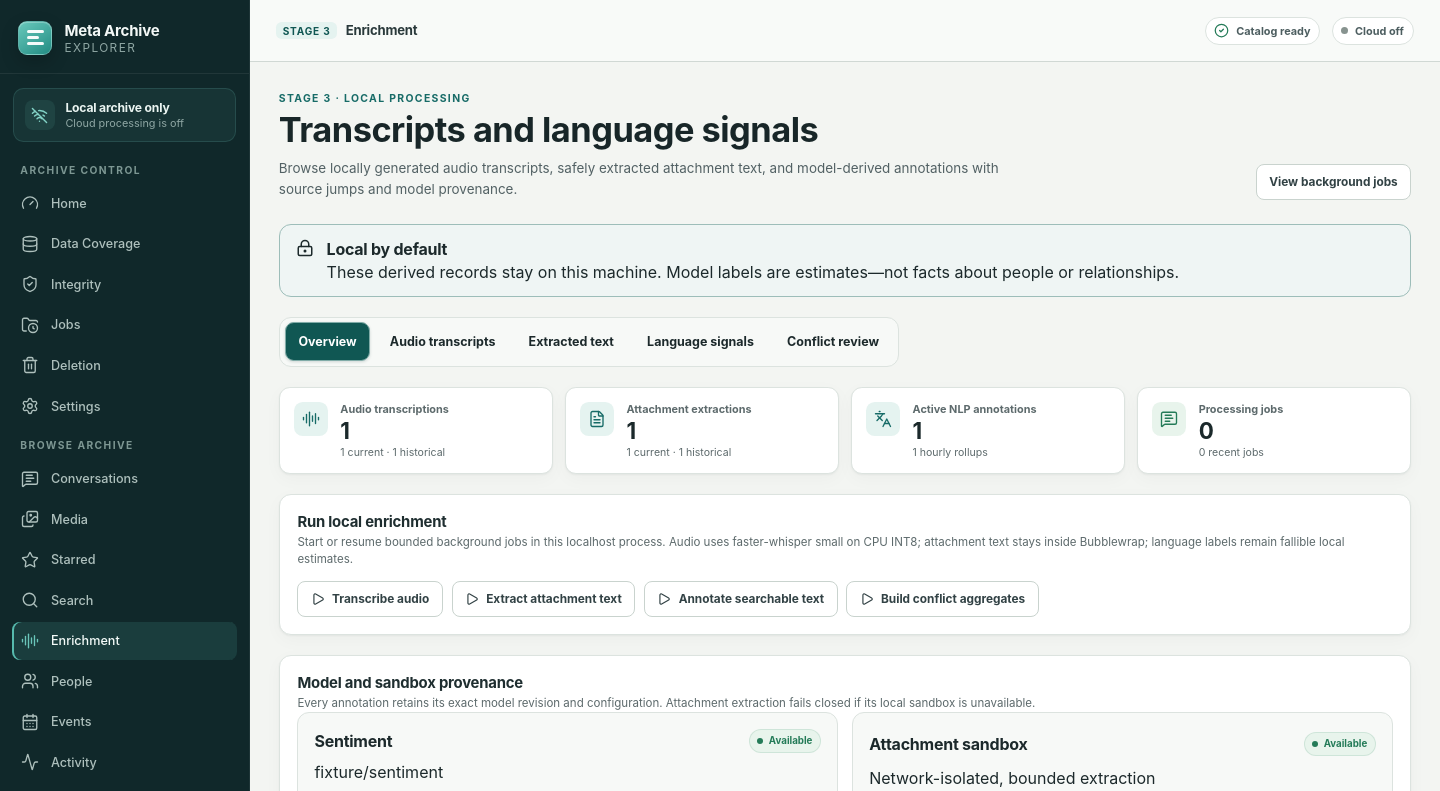
Test: Stage 3 enrichment browsing › navigates the unlabelled queue and runs calibration only when server eligibility passes
Click the tab "Conflict review" at (833, 342), box [773,322,893,361]
(page scrolled)
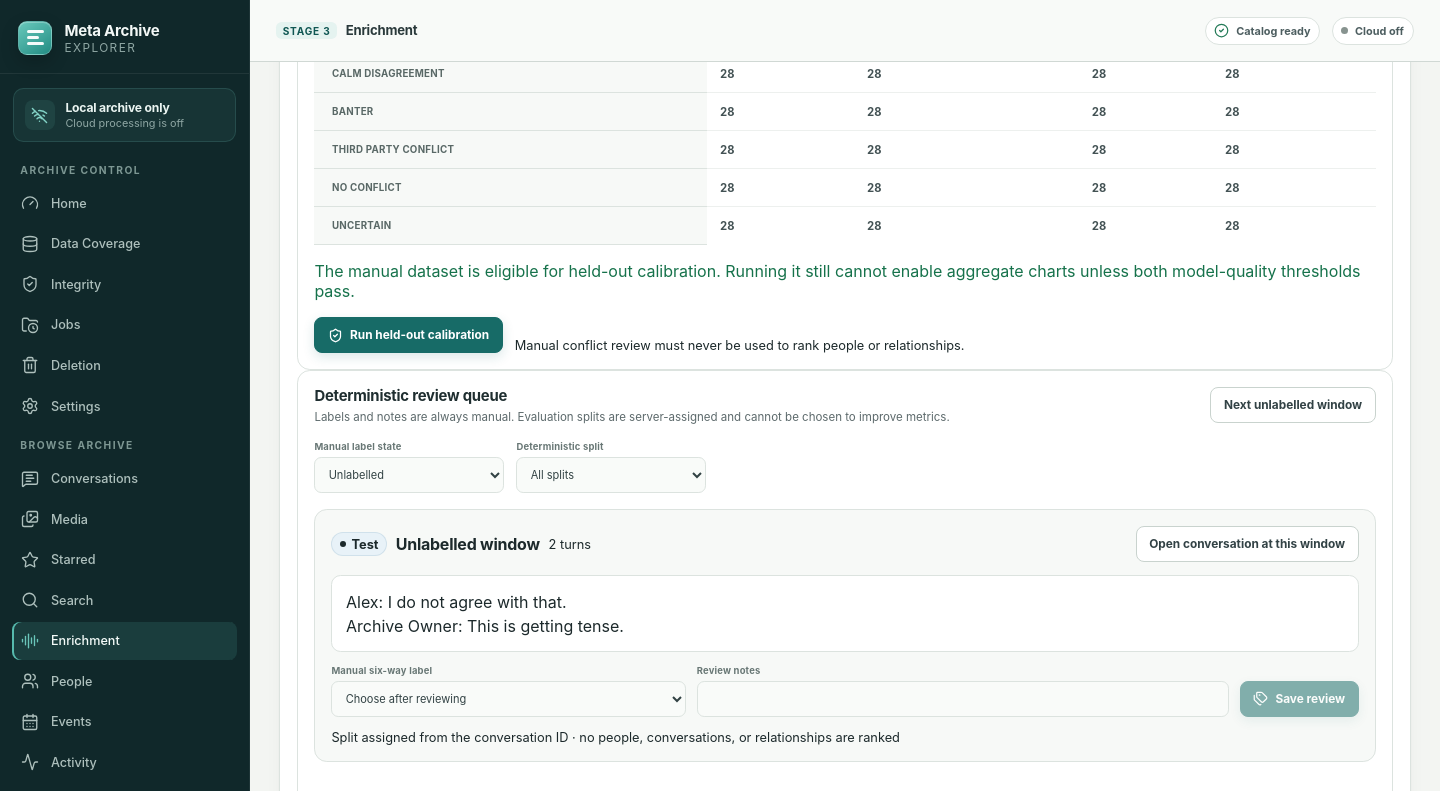
Expected: the button "Run held-out calibration" is enabled, [314,317,503,353]
Click the button "Next unlabelled window" at (1293, 405), box [1210,387,1376,423]
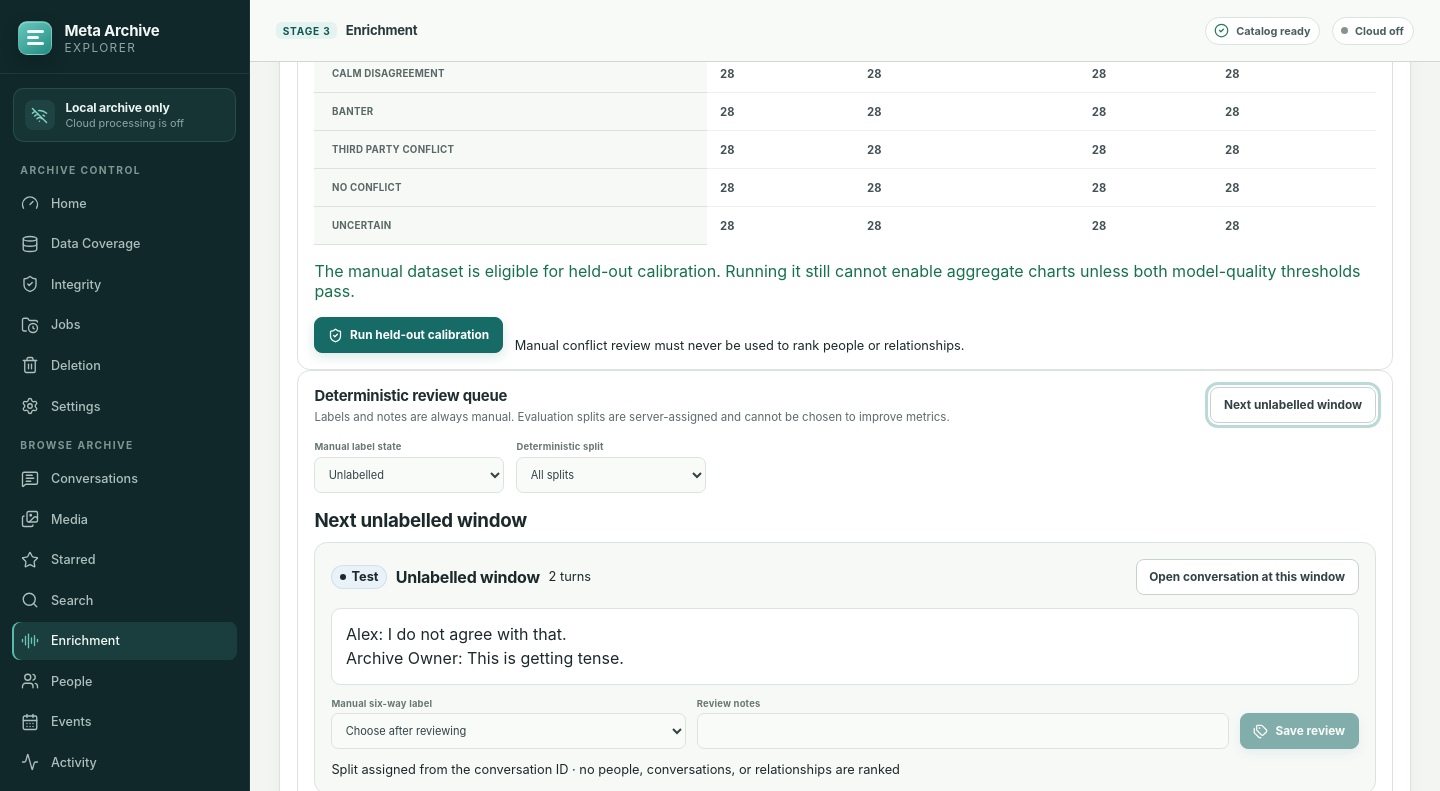
Expected: the heading "Next unlabelled window" is shown, [314,509,527,532]
Expected: the dropdown named "Manual label for review window conflict-two" is shown, [331,714,686,750]
Click the button "Run held-out calibration" at (409, 335), box [314,317,503,353]
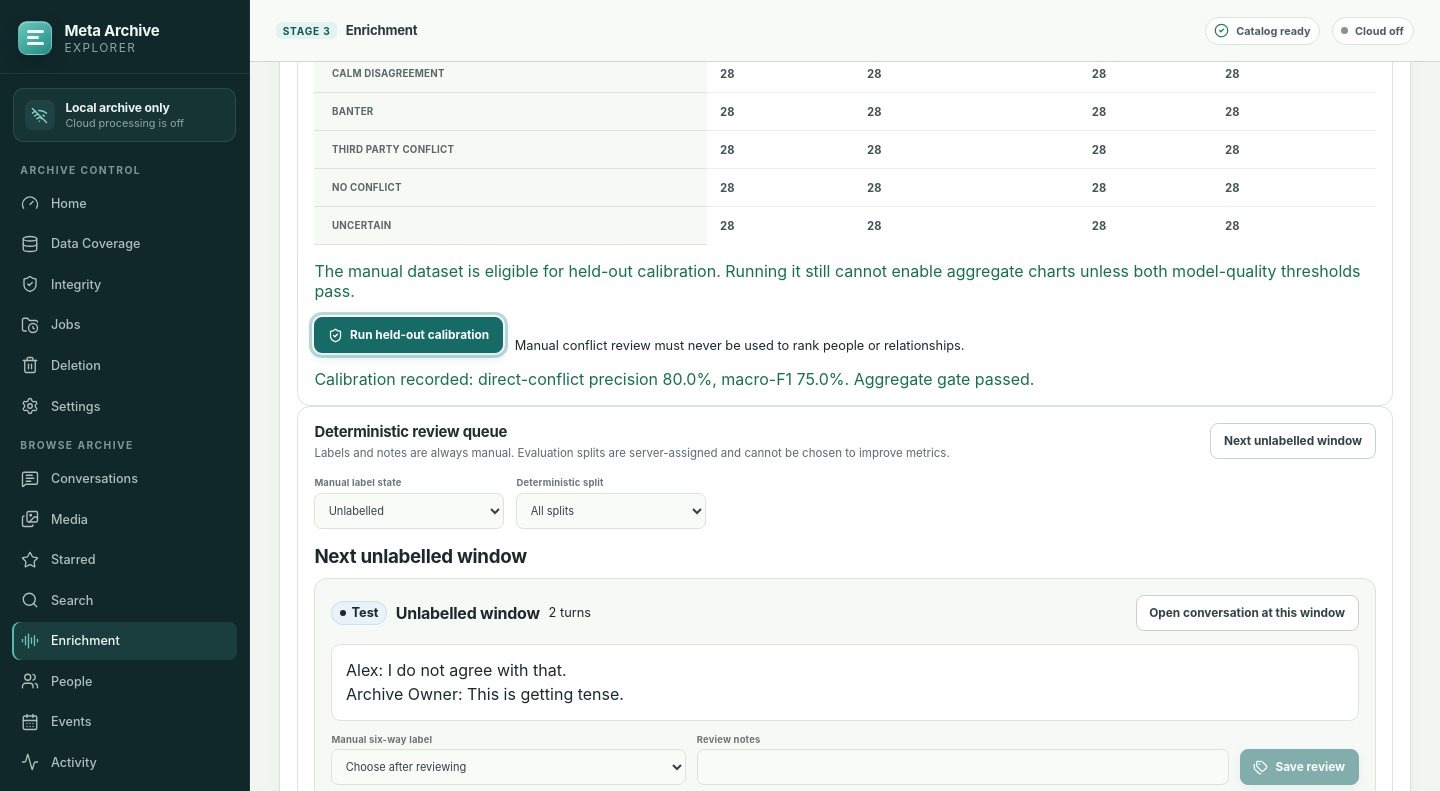
Expected: the text "Calibration recorded: direct-conflict precision 80.0%" is shown, [314,369,1034,389]
